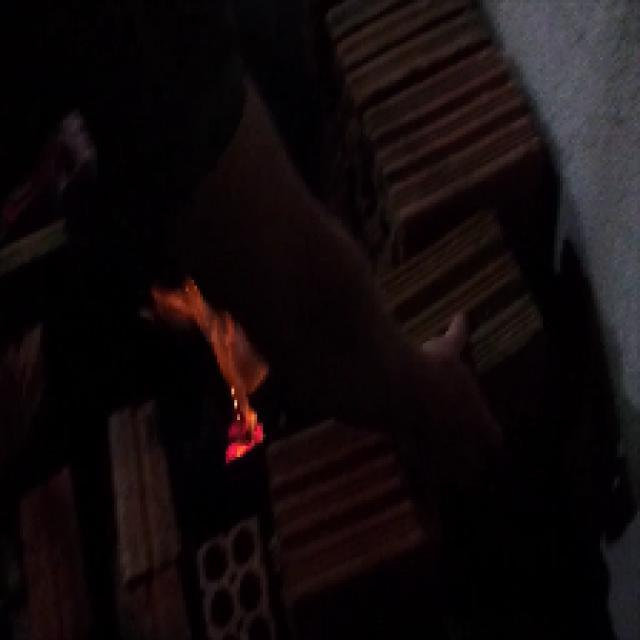Fire: (146, 282, 268, 458)
